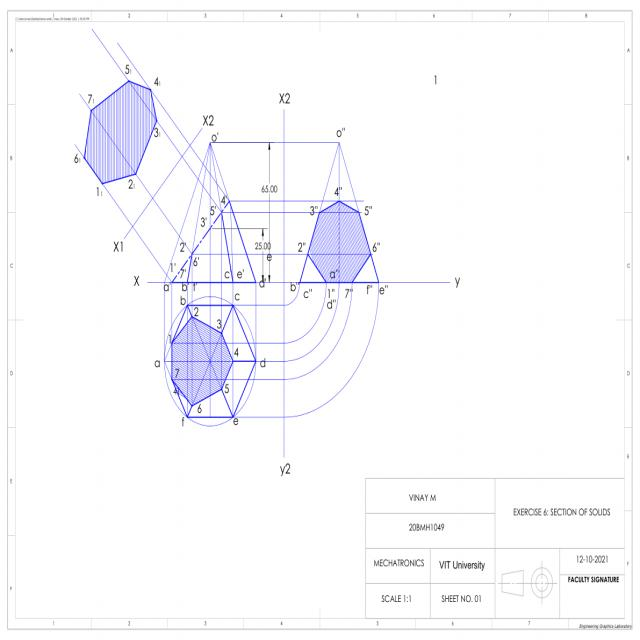Drawings: (58, 54, 398, 436)
